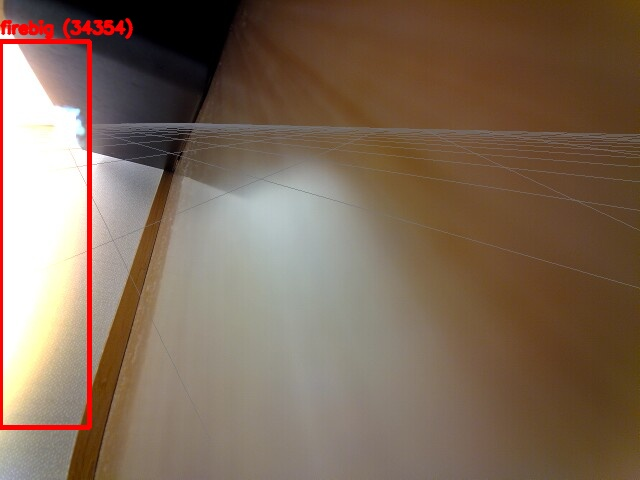firebig: (0, 41, 89, 427)
